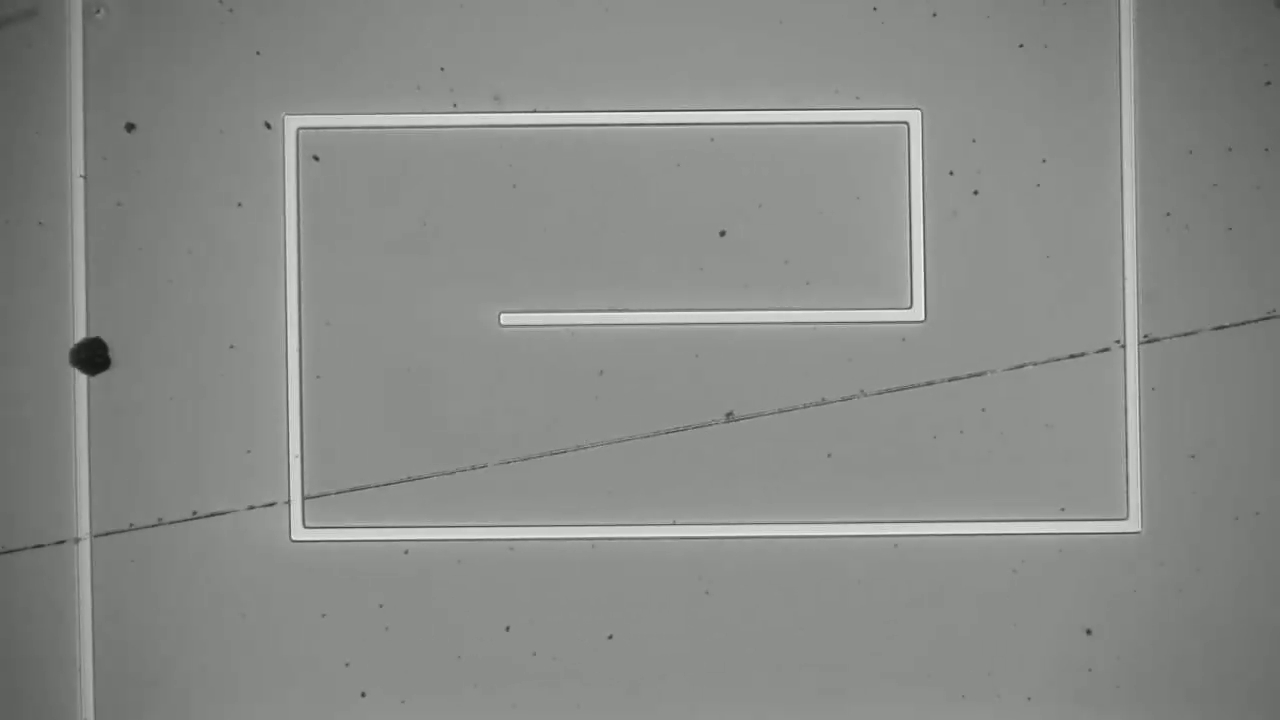scratch: (8, 308, 1280, 556)
stains_enbedded: (51, 314, 131, 392)
